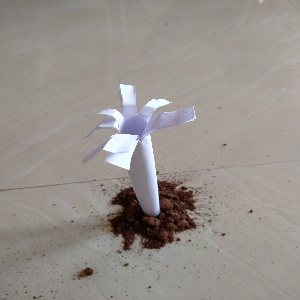weed: (83, 81, 186, 213)
